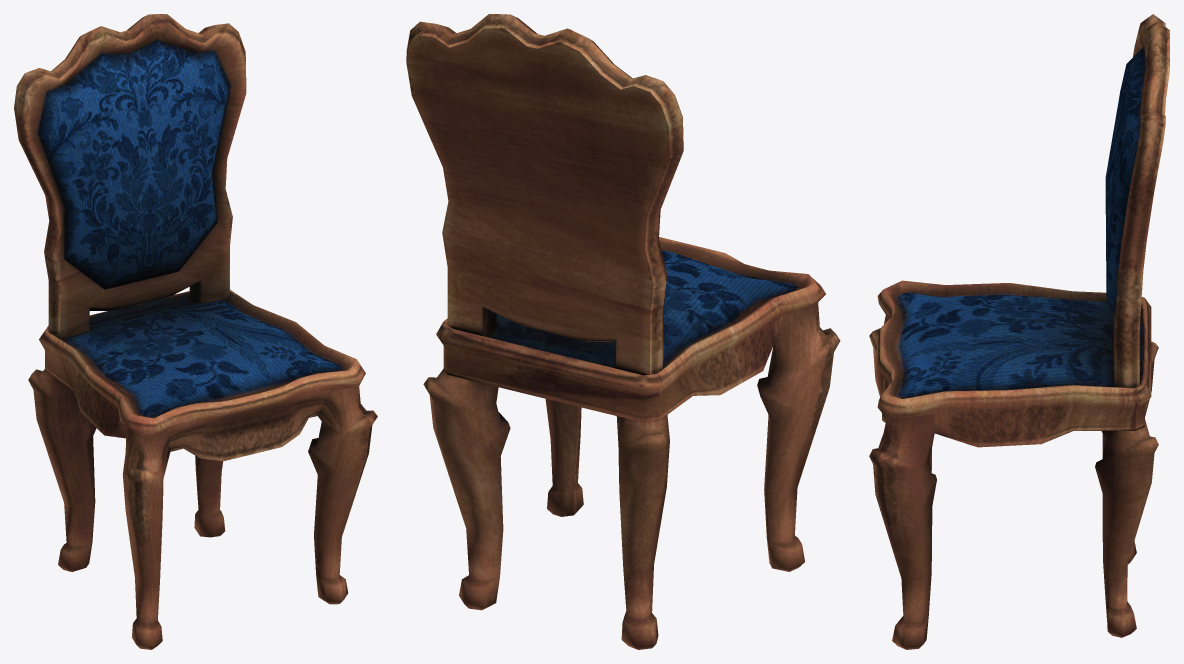
Rendered from chair_nice03.dae.
The picture shows the model from 3 angles, left to right: view 1: azimuth 30°, elevation 25°; view 2: azimuth 150°, elevation 25°; view 3: azimuth 270°, elevation 25°; orthographic projection. The views are drawn at different scales.
Parts seen in each view (by area): view 1: chair_nice01_Mesh; view 2: chair_nice01_Mesh; view 3: chair_nice01_Mesh.
Part boxes in pixels (<box>): chair_nice01_Mesh: <box>14,14,377,649</box>; chair_nice01_Mesh: <box>406,14,840,649</box>; chair_nice01_Mesh: <box>869,14,1169,649</box>.
Size of the model in its own units: 0.6539 by 1.31 by 0.6397.
